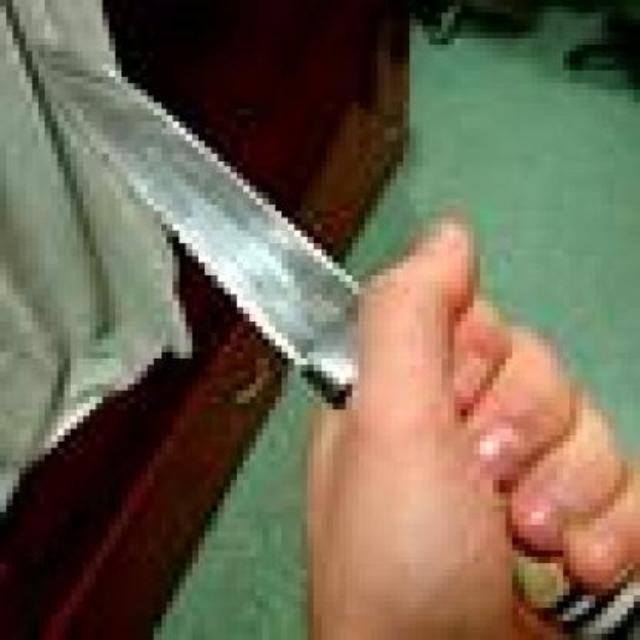Knife: (43, 46, 633, 634)
